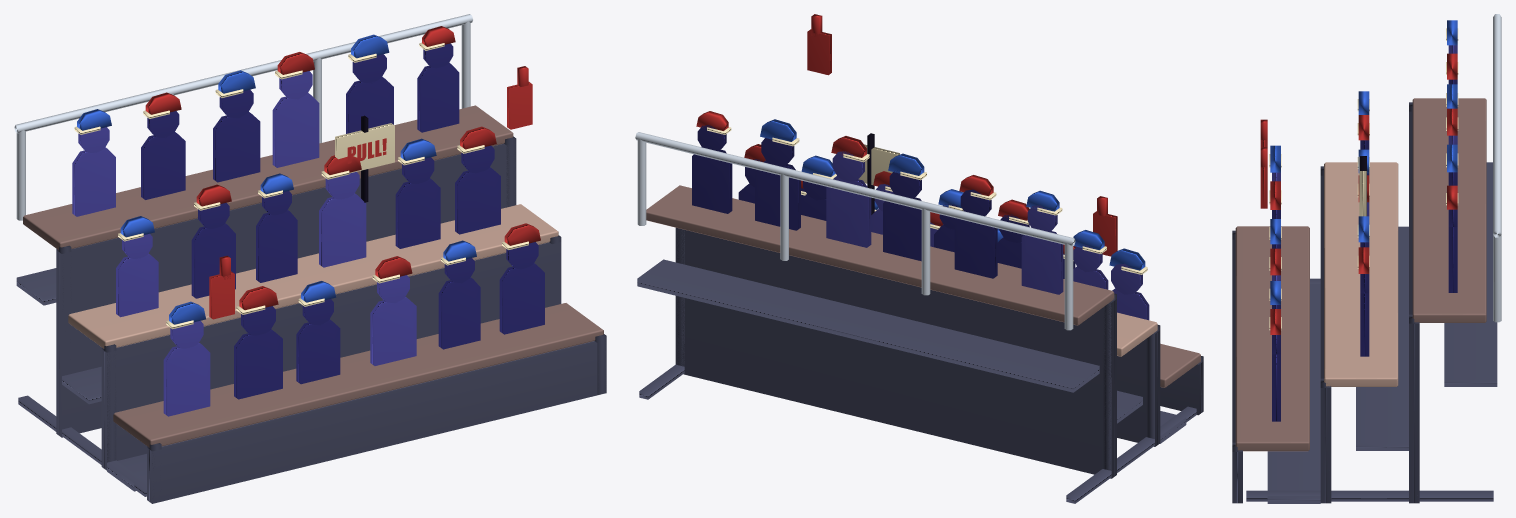
Rendered from grandstand.glb.
3 renders of one model, left to right at view 1: azimuth 30°, elevation 25°; view 2: azimuth 150°, elevation 25°; view 3: azimuth 270°, elevation 25°, orthographic. The views are drawn at different scales.
Visible parts, largest first — view 1: Bleachers, Crowd; view 2: Bleachers, Crowd; view 3: Bleachers, Crowd.
Part boxes in pixels (x1,y1,x2,y2): Bleachers: (14, 14, 606, 503); Crowd: (72, 26, 544, 416); Bleachers: (635, 132, 1203, 503); Crowd: (692, 14, 1149, 320); Bleachers: (1232, 14, 1501, 503); Crowd: (1260, 20, 1458, 421).
Size of the model in its own units: 2.9 by 2.01 by 1.52.
